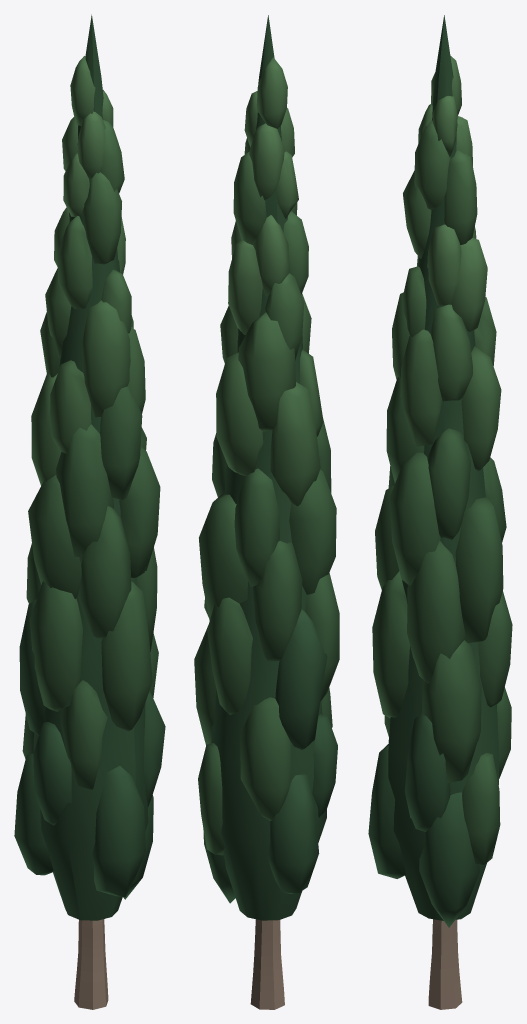
The model's file is cypress.glb.
3 renders of one model, left to right at view 1: azimuth 30°, elevation 25°; view 2: azimuth 150°, elevation 25°; view 3: azimuth 270°, elevation 25°, orthographic.
Parts seen in each view (by area): view 1: cypress; view 2: cypress; view 3: cypress.
Boxes of the visible parts, x1,y1,x2,y2 form: cypress: (14, 14, 165, 1009); cypress: (194, 15, 339, 1009); cypress: (368, 15, 512, 1009).
Size of the model in its own units: 1.03 by 7.95 by 1.05.
